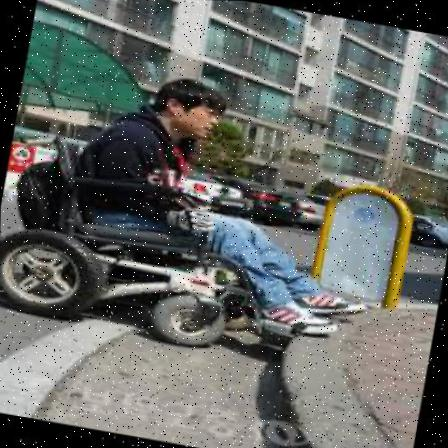wheel: (0, 51, 398, 378)
